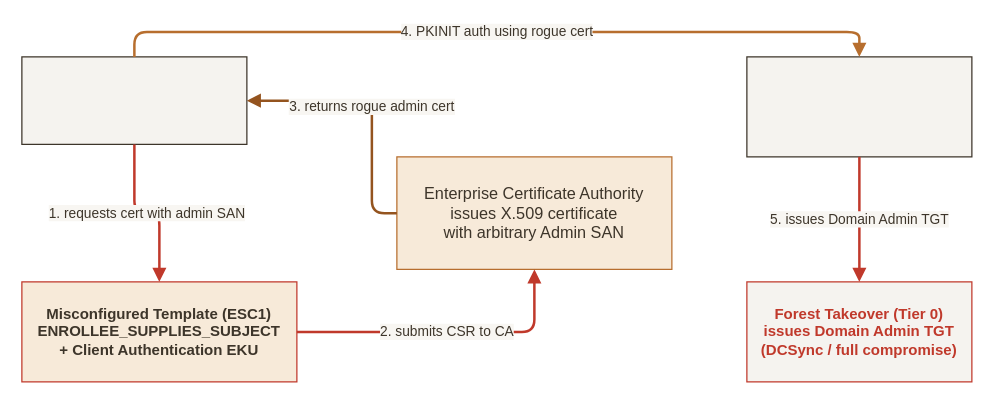
This 994x404 diagram has some shape labels left out. Each missing label, with the centre of its shape:
"Domain Controller / KDC PKINIT Kerberos Exchange validates signed cert" belongs at point 859,106.
"Standard Domain User (unprivileged account)" belongs at point 134,100.
